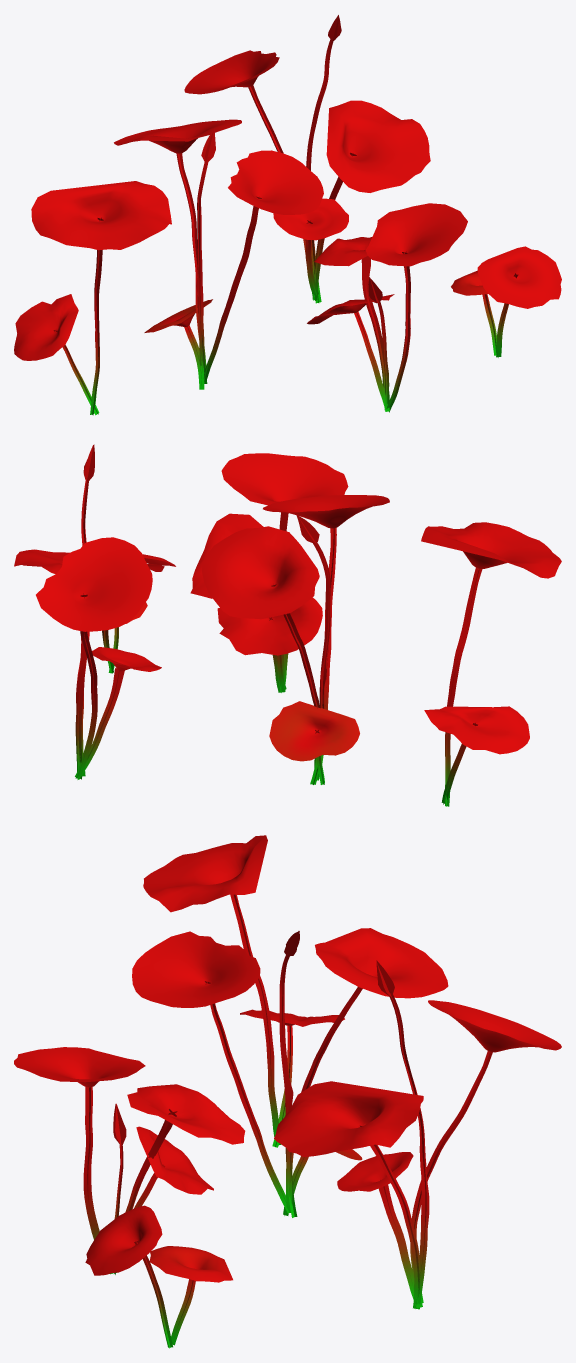
Rendered from Native Violet_LOD0_Var12_ultkcfeja.fbx.
3 renders of one model, top to bottom at view 1: azimuth 30°, elevation 25°; view 2: azimuth 150°, elevation 25°; view 3: azimuth 270°, elevation 25°, orthographic. The views are drawn at different scales.
Parts seen in each view (by area): view 1: _enju_Var12_LOD0; view 2: _enju_Var12_LOD0; view 3: _enju_Var12_LOD0.
Part boxes in pixels (x1,y1,x2,y2): _enju_Var12_LOD0: (14, 15, 561, 415); _enju_Var12_LOD0: (14, 444, 561, 806); _enju_Var12_LOD0: (14, 835, 561, 1348).
Bounding box in the file's own units: 27.22 × 16.48 × 22.98.
